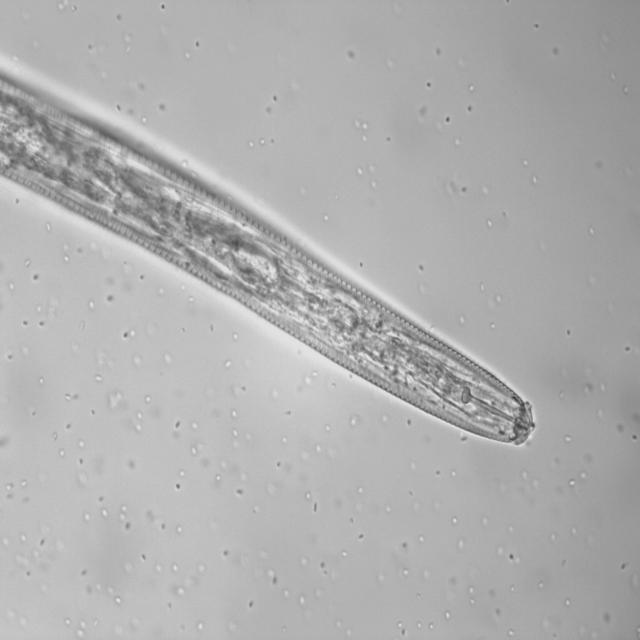Radopholus: (0, 53, 543, 464)
